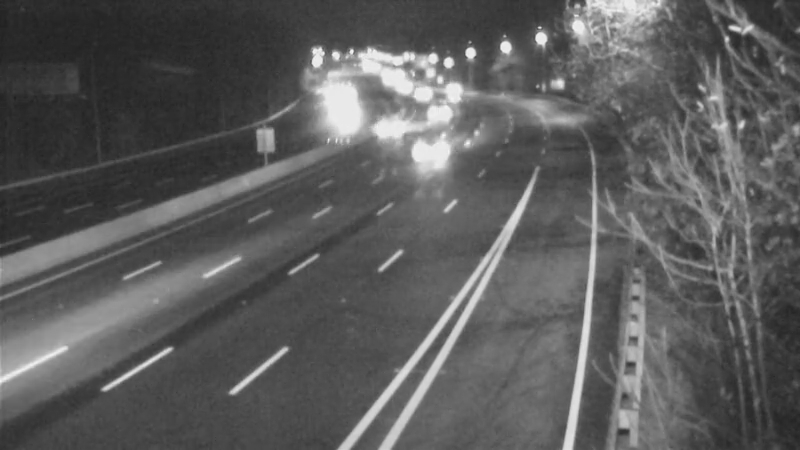vehicle: (378, 62, 428, 112), (397, 70, 447, 120), (414, 91, 464, 141), (429, 68, 479, 118), (409, 125, 459, 175), (367, 101, 417, 151), (311, 85, 361, 135)
